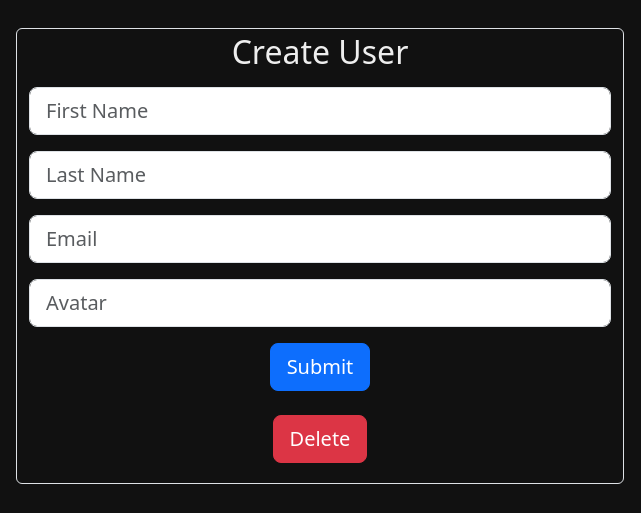
Test: MyUserPage › UserPage, handleSubmit, patchUser with correct data
// add data into the input fields
In the field with placeholder "First Name": point(320, 111) [29, 87, 611, 135], type "Adriana"
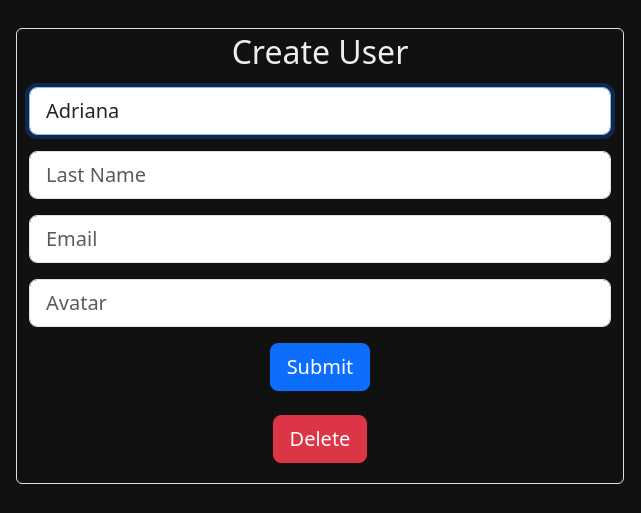
In the field with placeholder "Last Name": point(320, 175) [29, 151, 611, 199], type "Chaves"
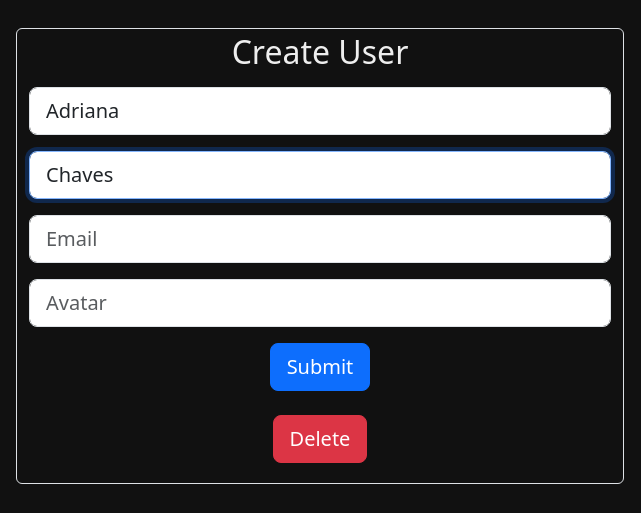
In the field with placeholder "Email": point(320, 239) [29, 215, 611, 263], type "adrianachavesp@gmail.com"
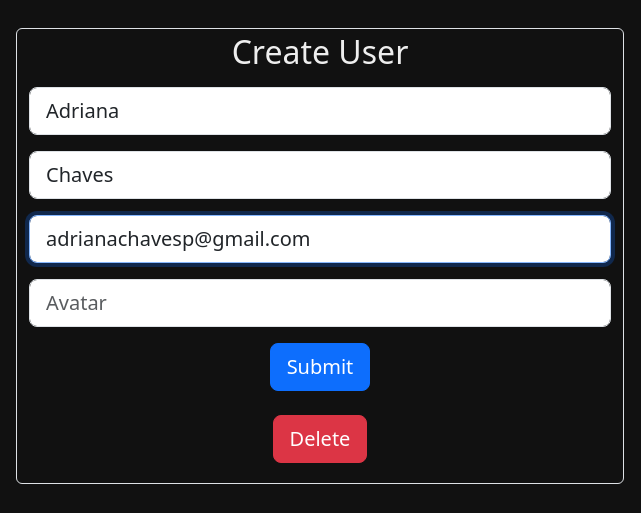
In the field with placeholder "Avatar": point(320, 303) [29, 279, 611, 327], type "https://example.com/avatarAdriana.jpg"
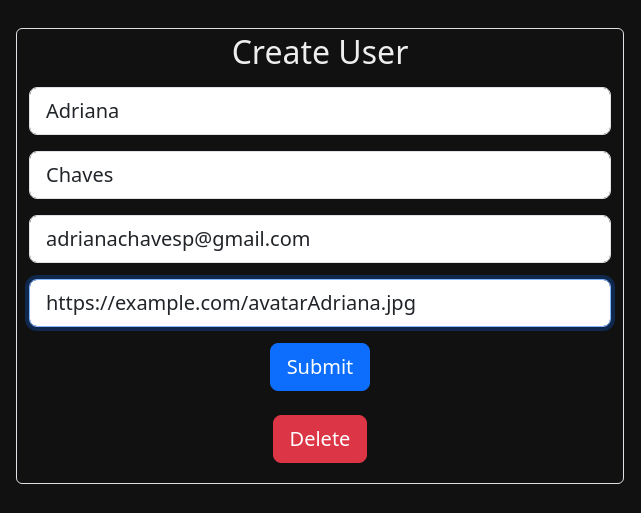
Click the button "Submit": point(320, 367) [270, 343, 370, 391]
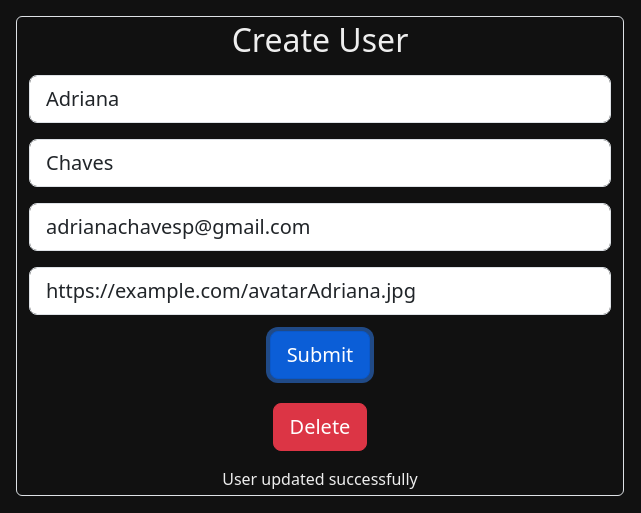
Result: the text "User updated successfully" is shown at [222, 468, 418, 490]
